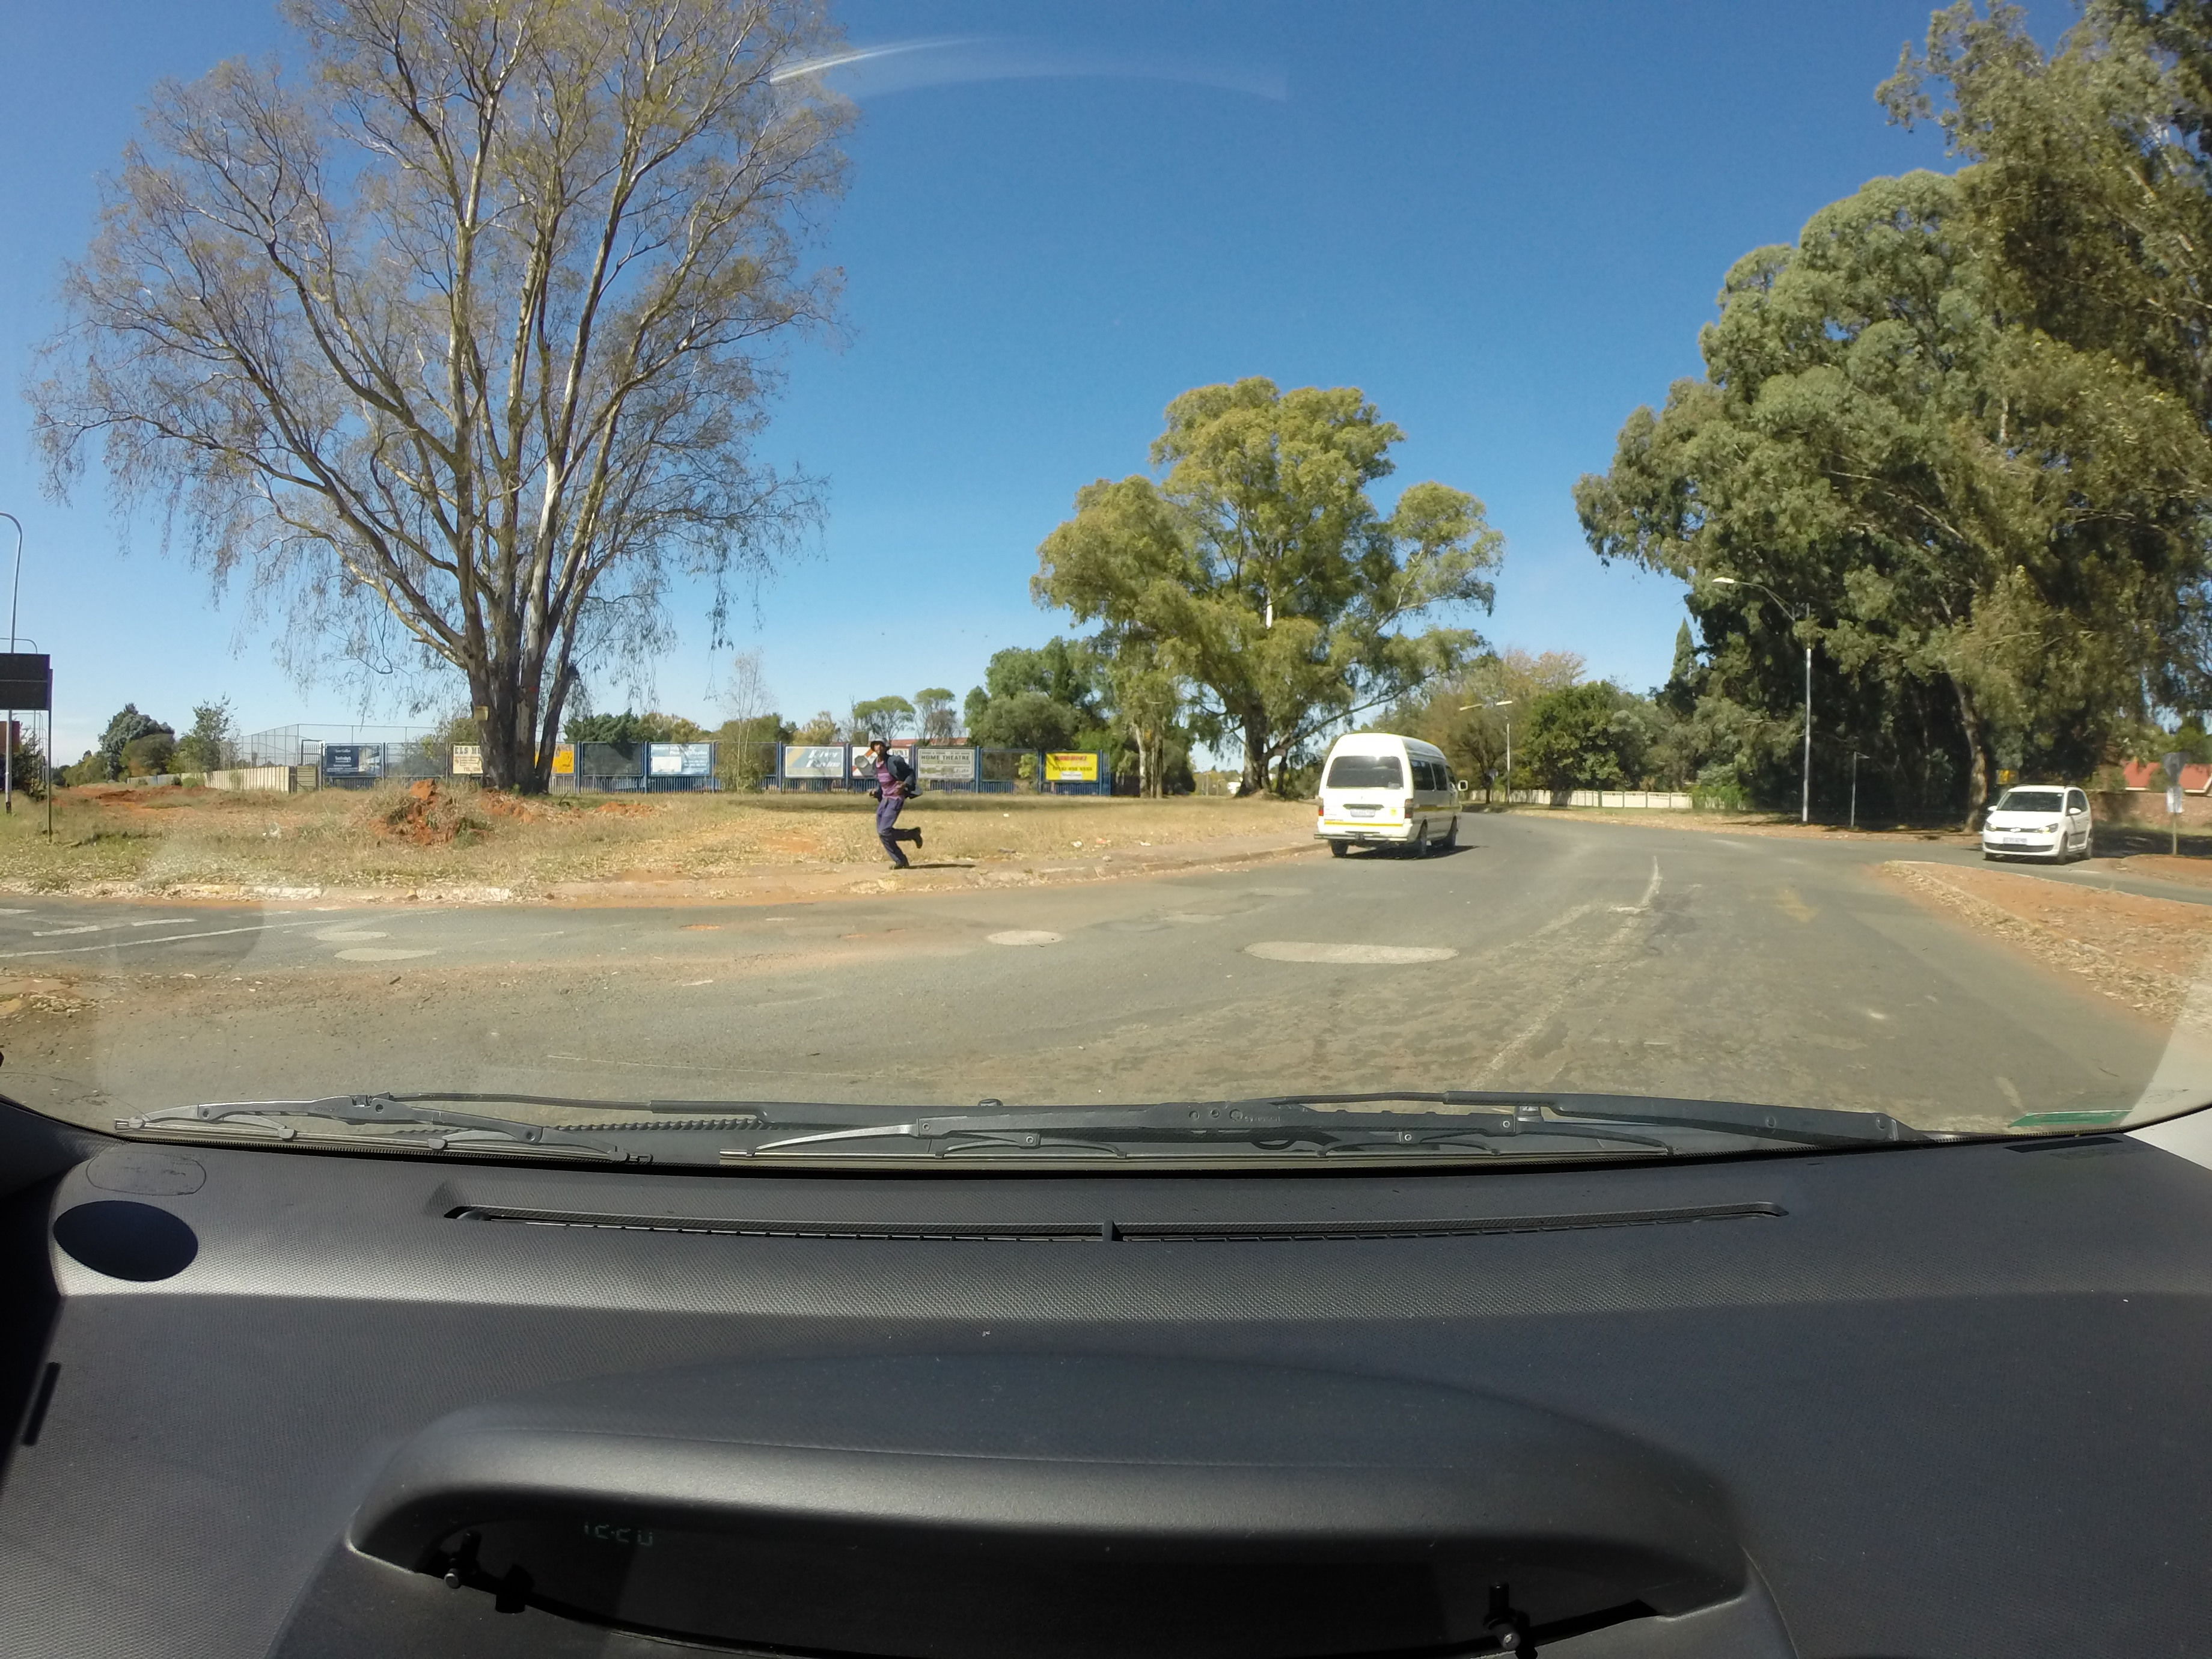pothole: (1240, 934, 1467, 969), (979, 920, 1083, 955)
